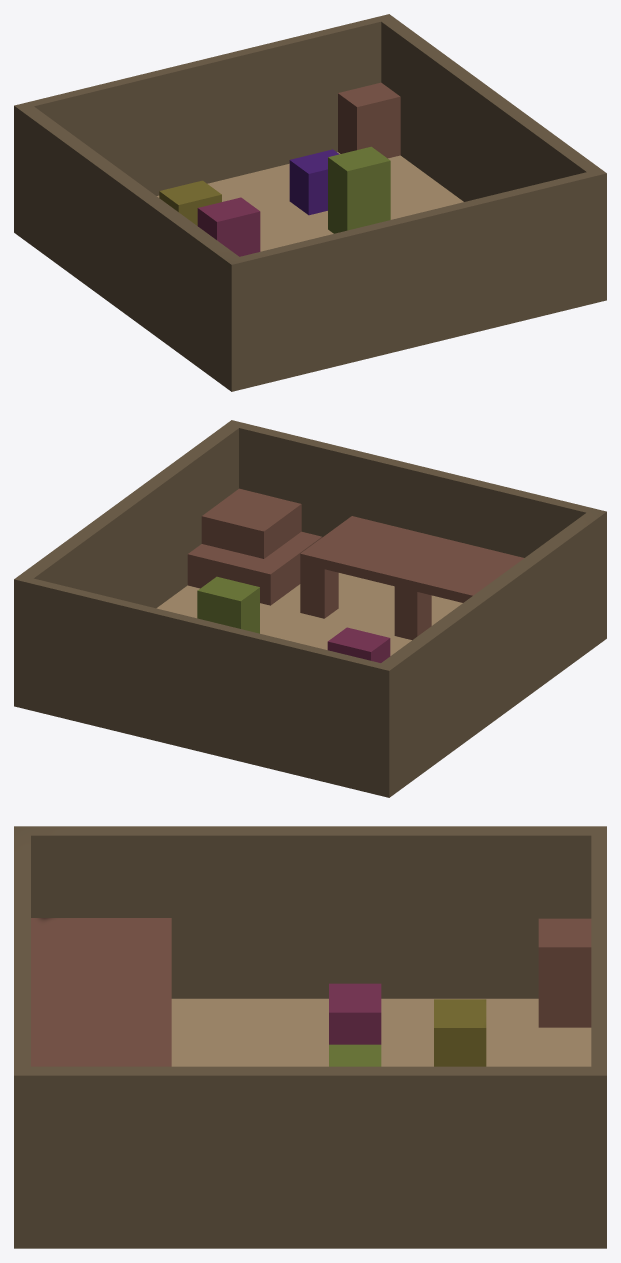
File: arena.obj
3 renders of one model, top to bottom at view 1: azimuth 30°, elevation 25°; view 2: azimuth 150°, elevation 25°; view 3: azimuth 270°, elevation 25°, orthographic. The views are drawn at different scales.
Visible parts, largest first — view 1: Cube; view 2: Cube; view 3: Cube.
Boxes of the visible parts, x1,y1,x2,y2 form: Cube: (14, 14, 606, 391); Cube: (14, 420, 606, 797); Cube: (14, 826, 606, 1248).
Size of the model in its own units: 39.92 by 12.91 by 40.09.
1 material, 1 textured.
